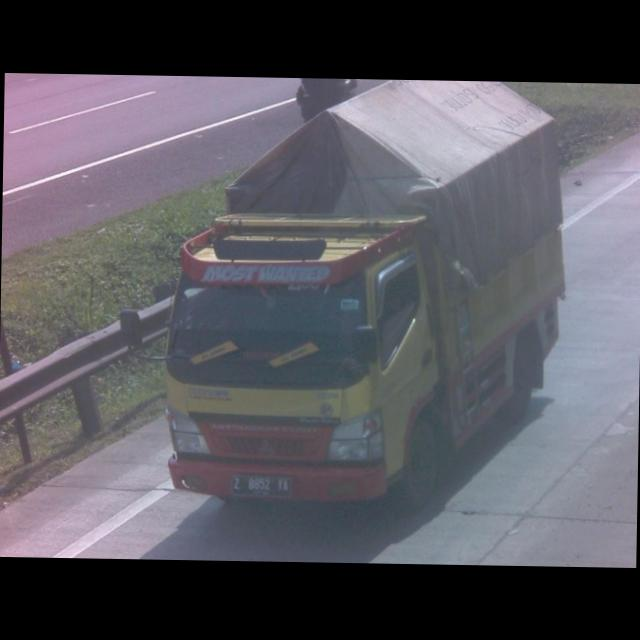plate: (229, 475, 295, 499)
